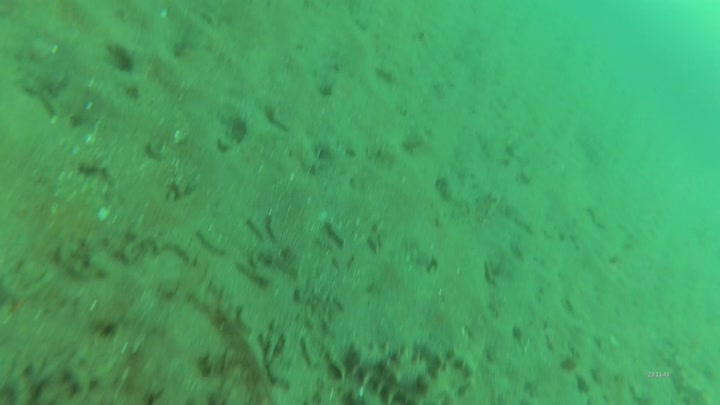holothurian: (345, 337, 478, 405)
